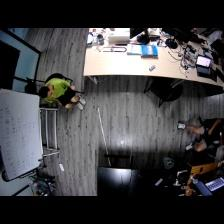normal: (37, 76, 89, 112), (178, 115, 224, 154)
